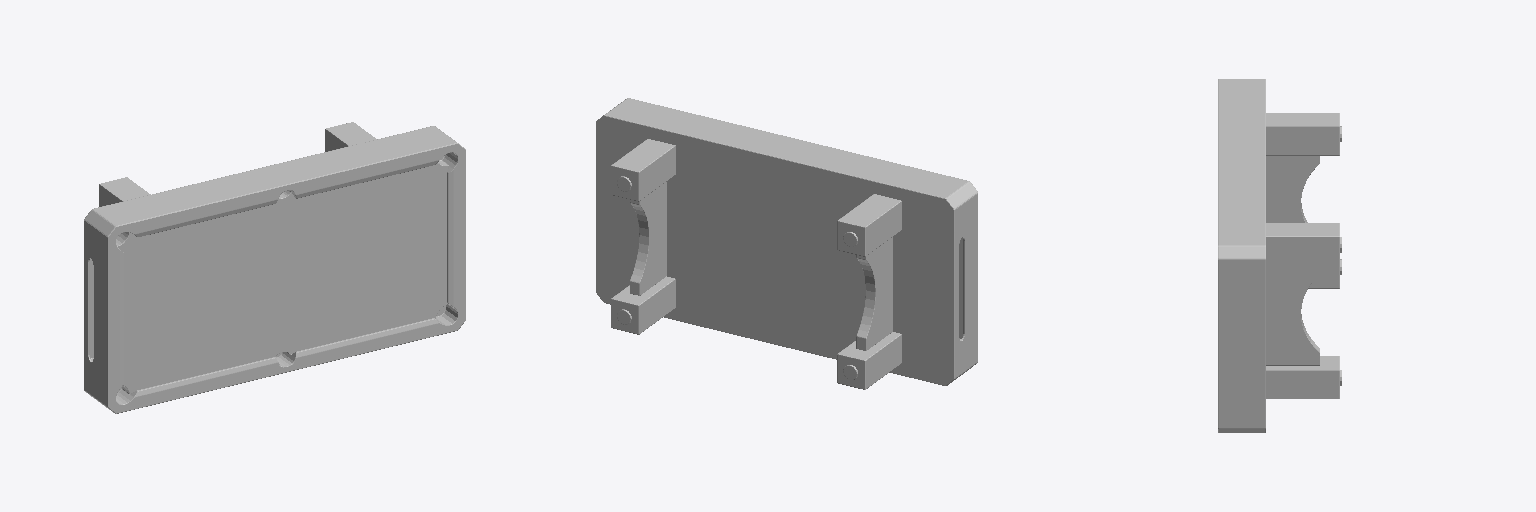
The model's file is pool_table.obj.
3 views of the same model, side by side, from view 1: azimuth 30°, elevation 25°; view 2: azimuth 150°, elevation 25°; view 3: azimuth 270°, elevation 25° (orthographic).
Visible parts, largest first — view 1: pool_table; view 2: pool_table; view 3: pool_table.
Part boxes in pixels (x1,y1,x2,y2): pool_table: (84, 122, 465, 413); pool_table: (596, 98, 977, 389); pool_table: (1218, 79, 1341, 432).
Bounding box in the file's own units: 254 × 127 × 76.2.